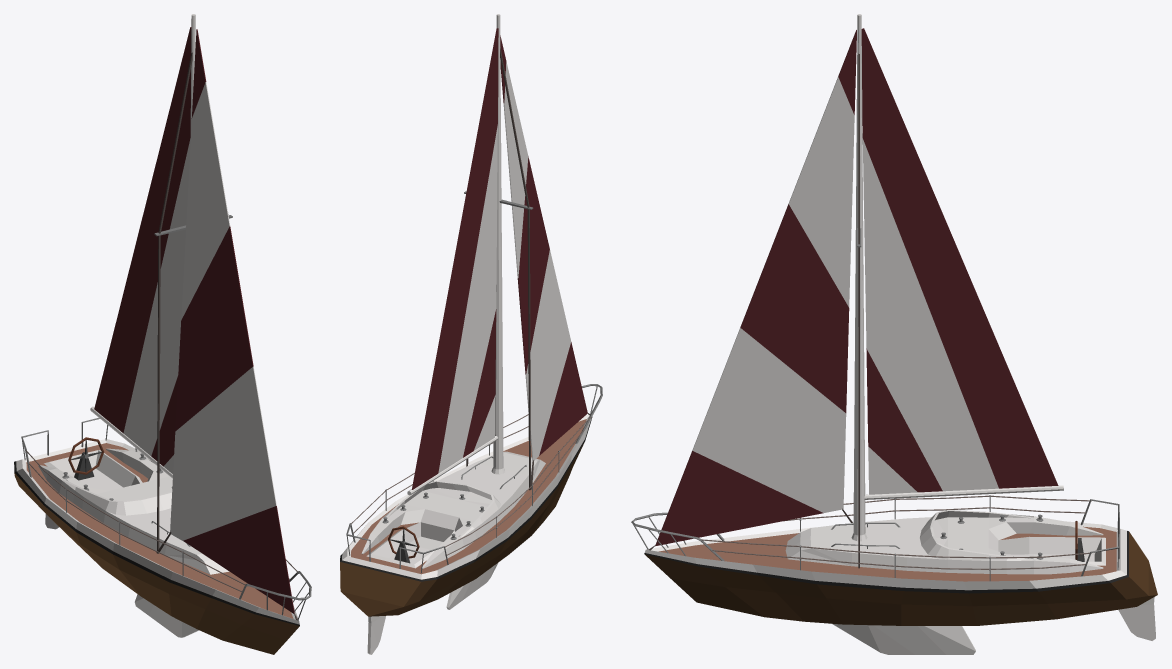
The model's file is Sailboat B.fbx.
3 renders of one model, left to right at view 1: azimuth 30°, elevation 25°; view 2: azimuth 150°, elevation 25°; view 3: azimuth 270°, elevation 25°, orthographic. The views are drawn at different scales.
Parts seen in each view (by area): view 1: Sailboat B; view 2: Sailboat B; view 3: Sailboat B.
Part boxes in pixels (x1=…): Sailboat B: x1=14, y1=14, x2=311, y2=654; Sailboat B: x1=340, y1=14, x2=602, y2=654; Sailboat B: x1=631, y1=14, x2=1157, y2=654.
Size of the model in its own units: 454 by 2119 by 1583.
